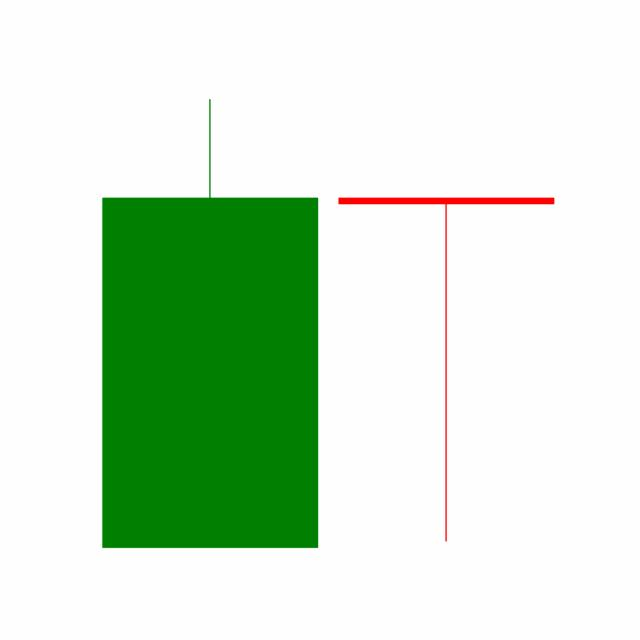Hammer: (327, 193, 565, 545)
